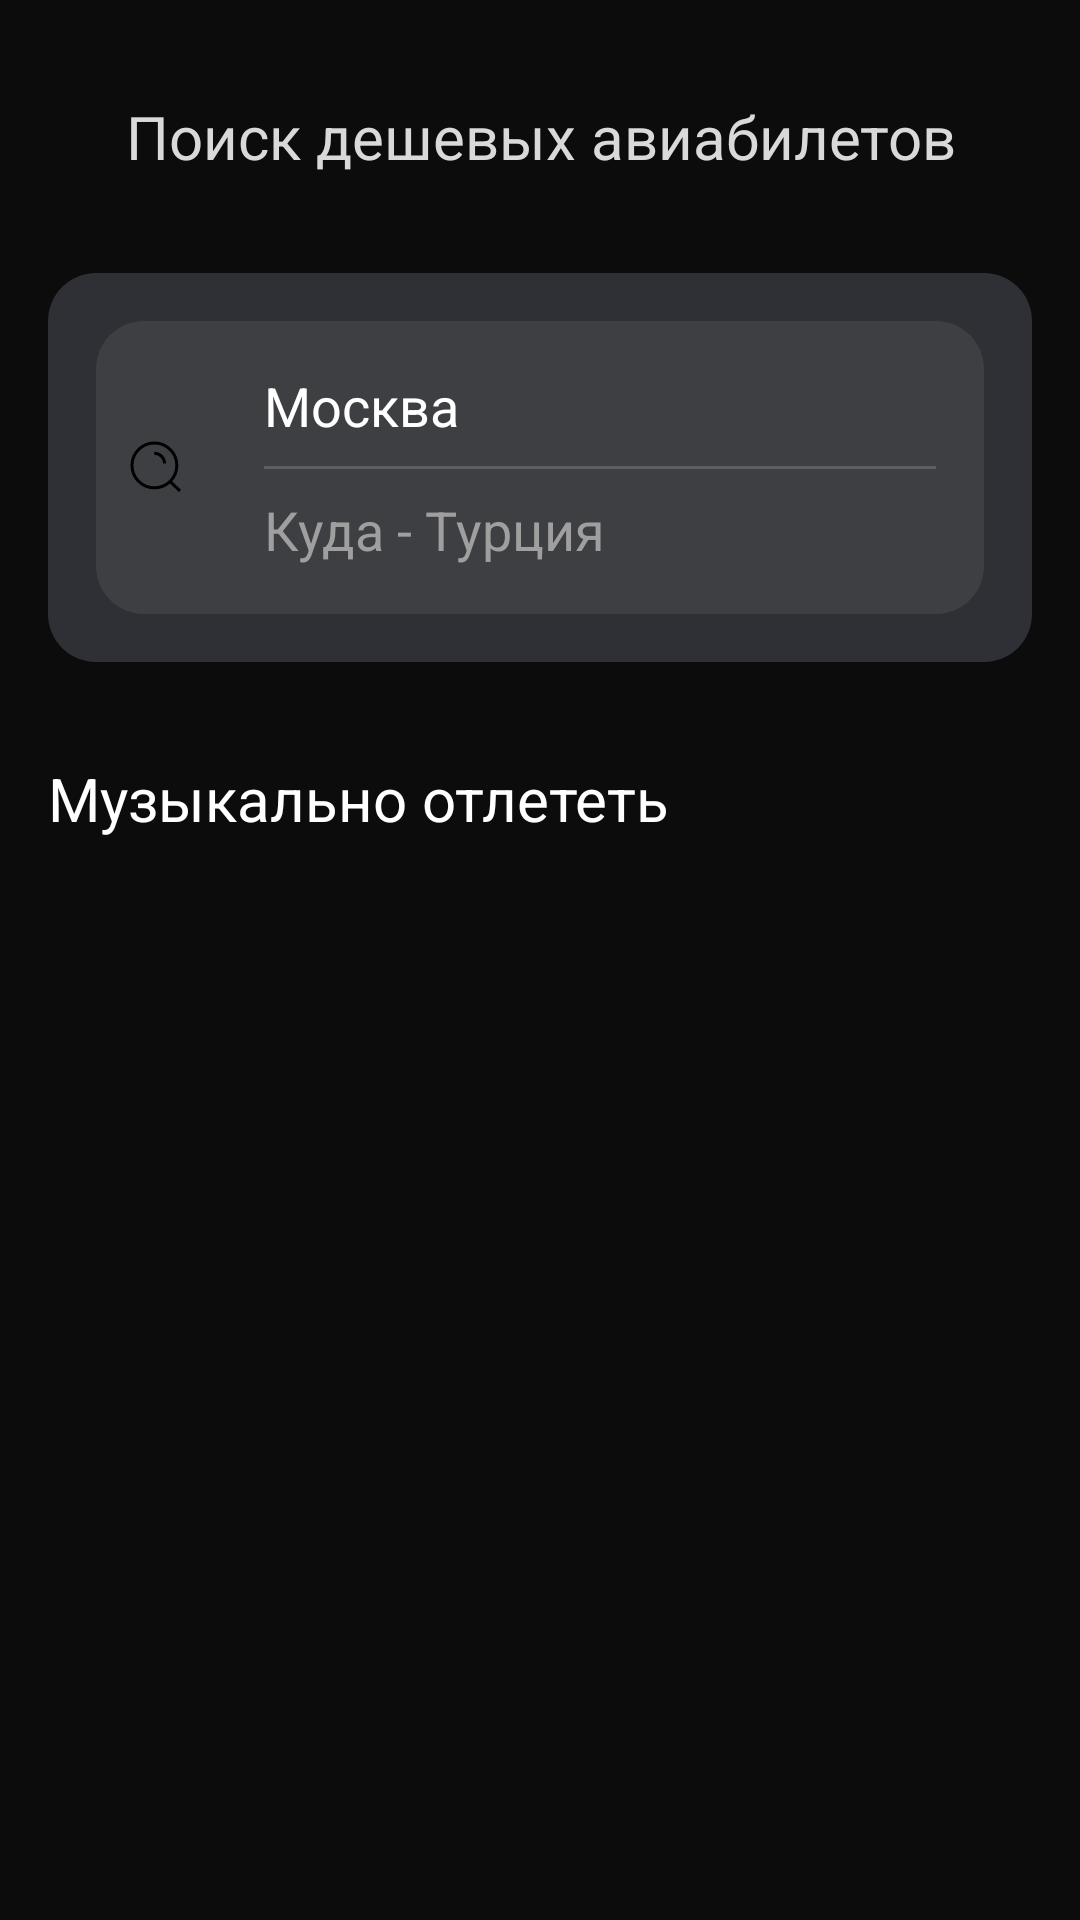

Icons on this 1080 × 1920 Android screen, each with the point to tap as (x=x, y=y):
search: (x=155, y=466)
